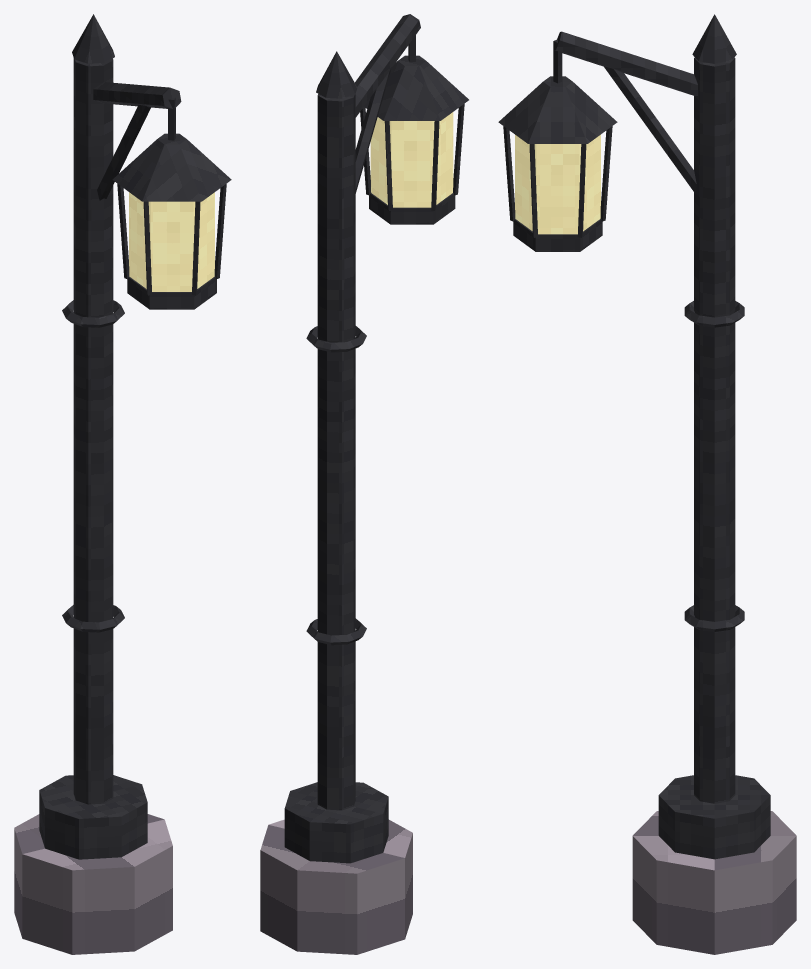
The model's file is street_lamp.glb.
3 renders of one model, left to right at view 1: azimuth 30°, elevation 25°; view 2: azimuth 150°, elevation 25°; view 3: azimuth 270°, elevation 25°, orthographic. The views are drawn at different scales.
Visible parts, largest first — view 1: body, lamp_on; view 2: body, lamp_on; view 3: body, lamp_on.
Part boxes in pixels (box(x1,y1,x2,y2)): body: box(14, 14, 231, 954); lamp_on: box(129, 192, 214, 291); body: box(260, 14, 468, 954); lamp_on: box(370, 112, 453, 207); body: box(498, 14, 796, 954); lamp_on: box(515, 134, 600, 234).
Size of the model in its own units: 0.44 by 2.68 by 0.8.
4 materials, 3 textured.
